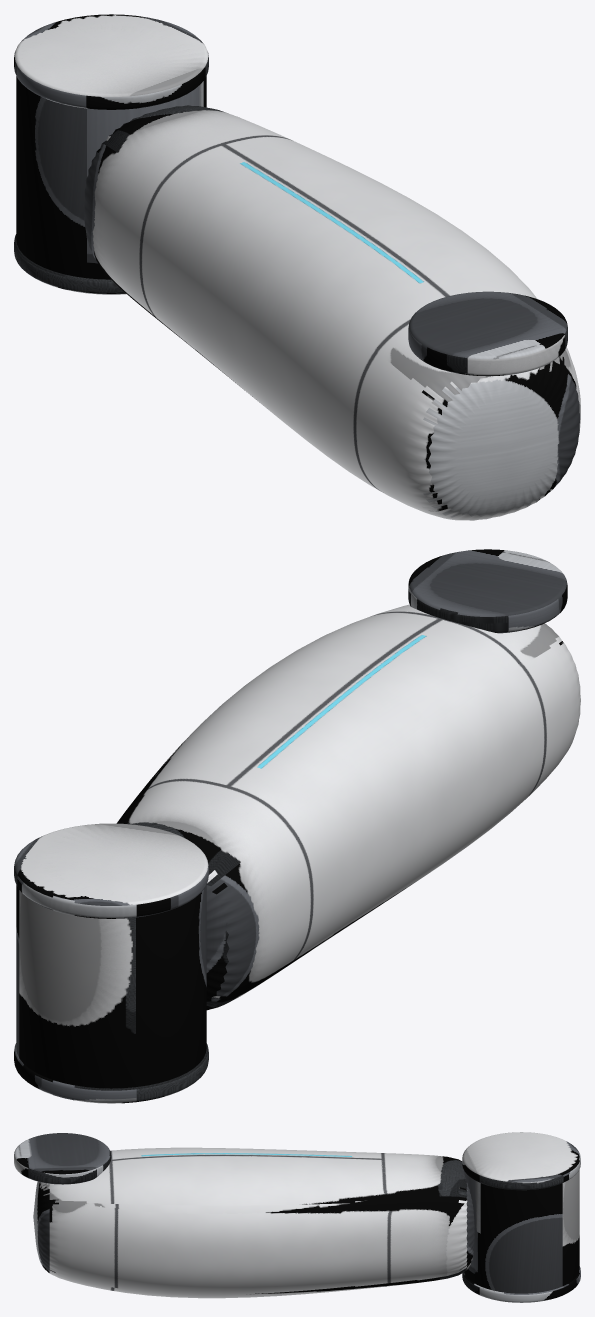
File: left_thigh.obj
The picture shows the model from 3 angles, top to bottom: view 1: azimuth 30°, elevation 25°; view 2: azimuth 150°, elevation 25°; view 3: azimuth 270°, elevation 25°; orthographic projection. The views are drawn at different scales.
Visible parts, largest first — view 1: left_thigh; view 2: left_thigh; view 3: left_thigh.
Boxes of the visible parts, <box> form: left_thigh: <box>14,14,580,520</box>; left_thigh: <box>14,549,580,1103</box>; left_thigh: <box>14,1132,580,1302</box>.
Size of the model in its own units: 0.1208 by 0.1046 by 0.42.
Materials: 1 (1 with a texture image).
